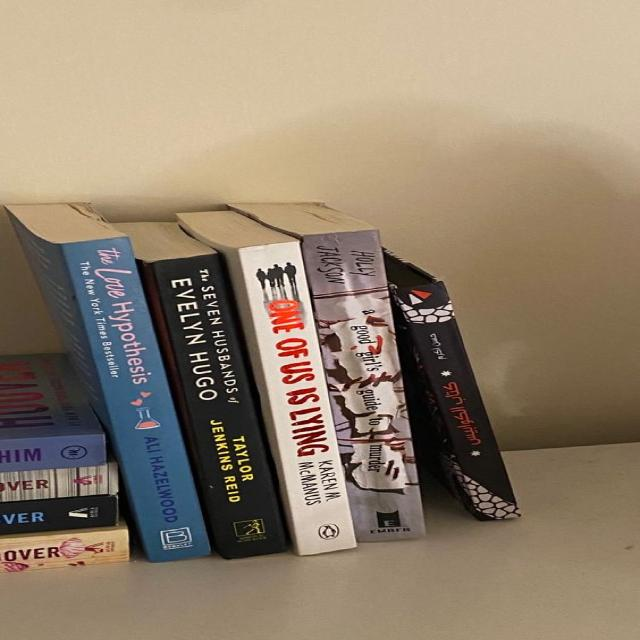book: (66, 234, 209, 563), (150, 252, 285, 561), (300, 229, 427, 543), (238, 241, 359, 557), (396, 280, 522, 520)
